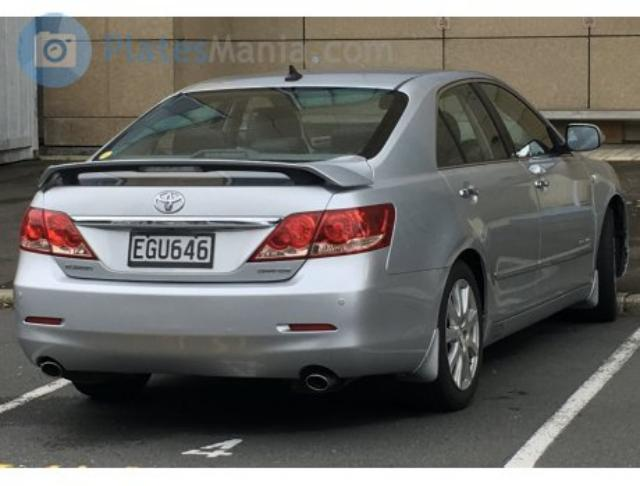Rego: (127, 233, 215, 269)
